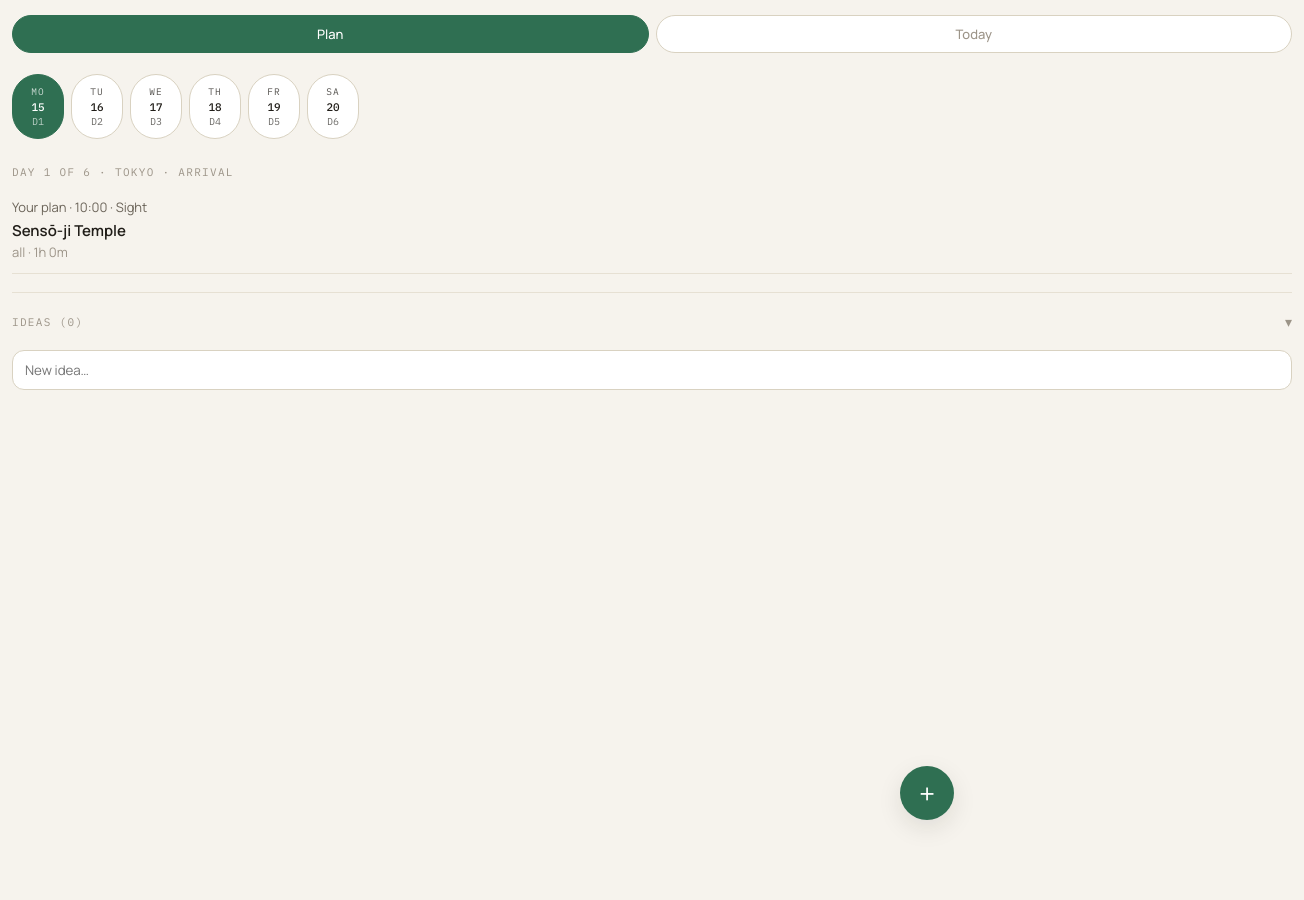
Test case: ItineraryTab — trip-relative day framing › shows departure context on a leg's last day
Click the tab "Sa 20 D6".
click(333, 106)  # box [307, 74, 359, 139]
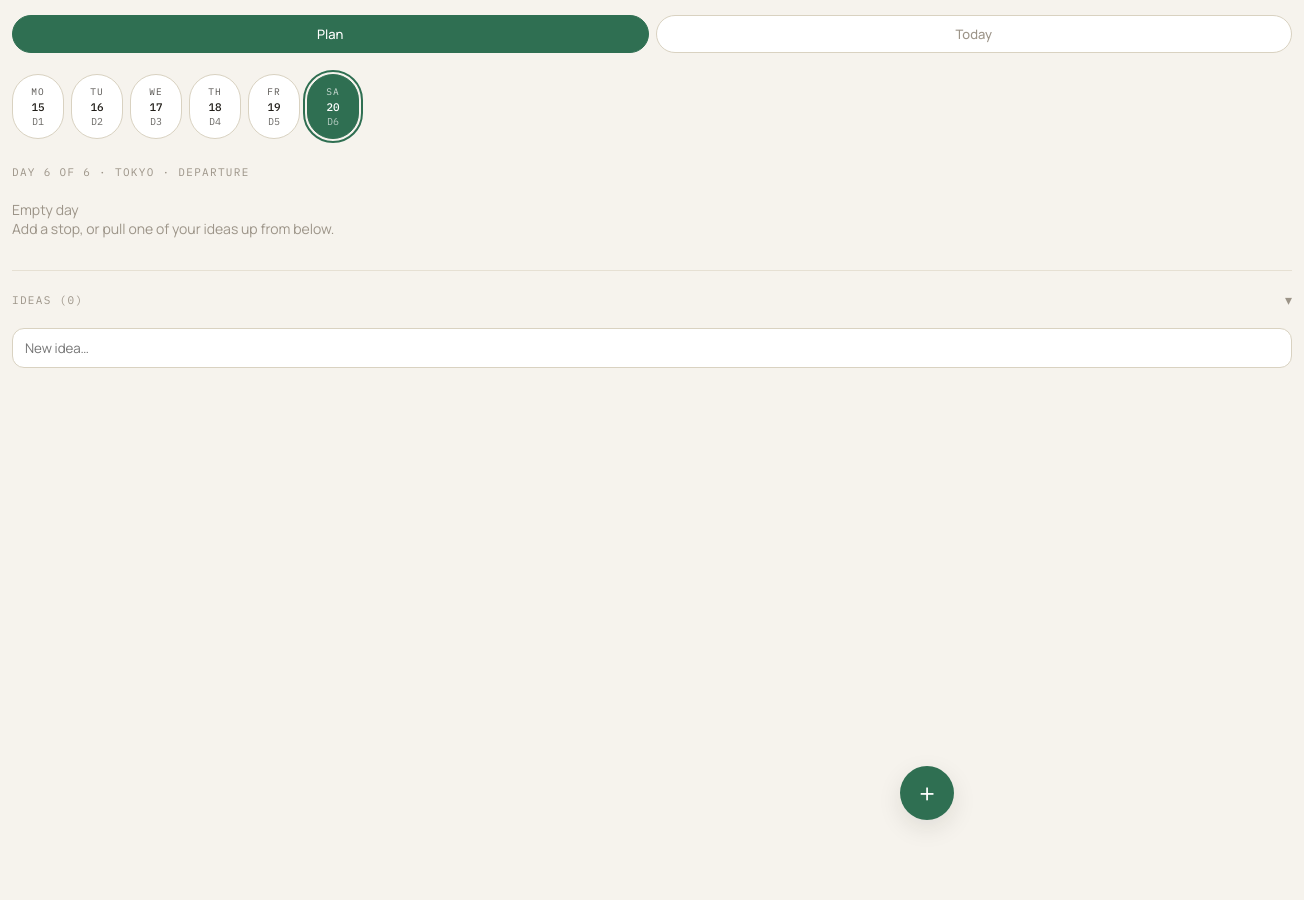
Result: the text "DAY 6 OF 6 · TOKYO · DEPARTURE" is shown at [12, 165, 250, 179]
